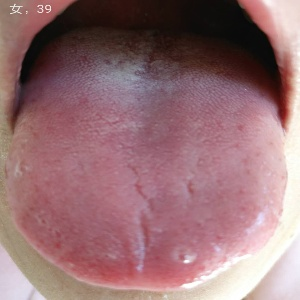st: (16, 91, 283, 285)
